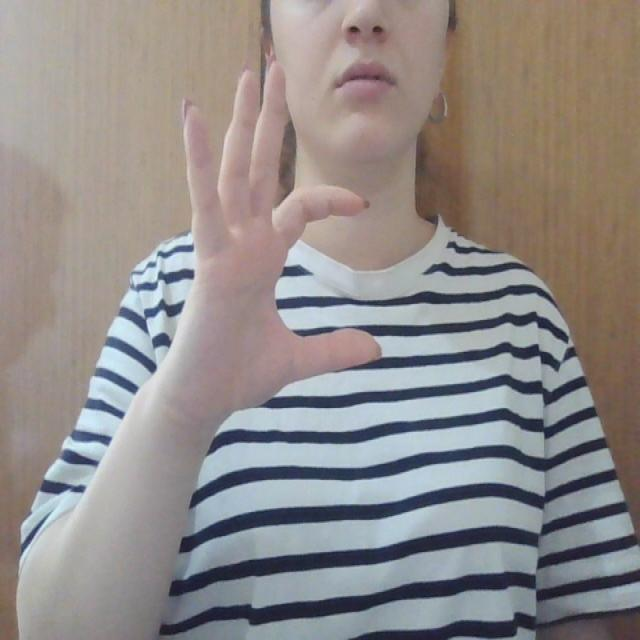Tuvalet: (152, 45, 400, 443)
